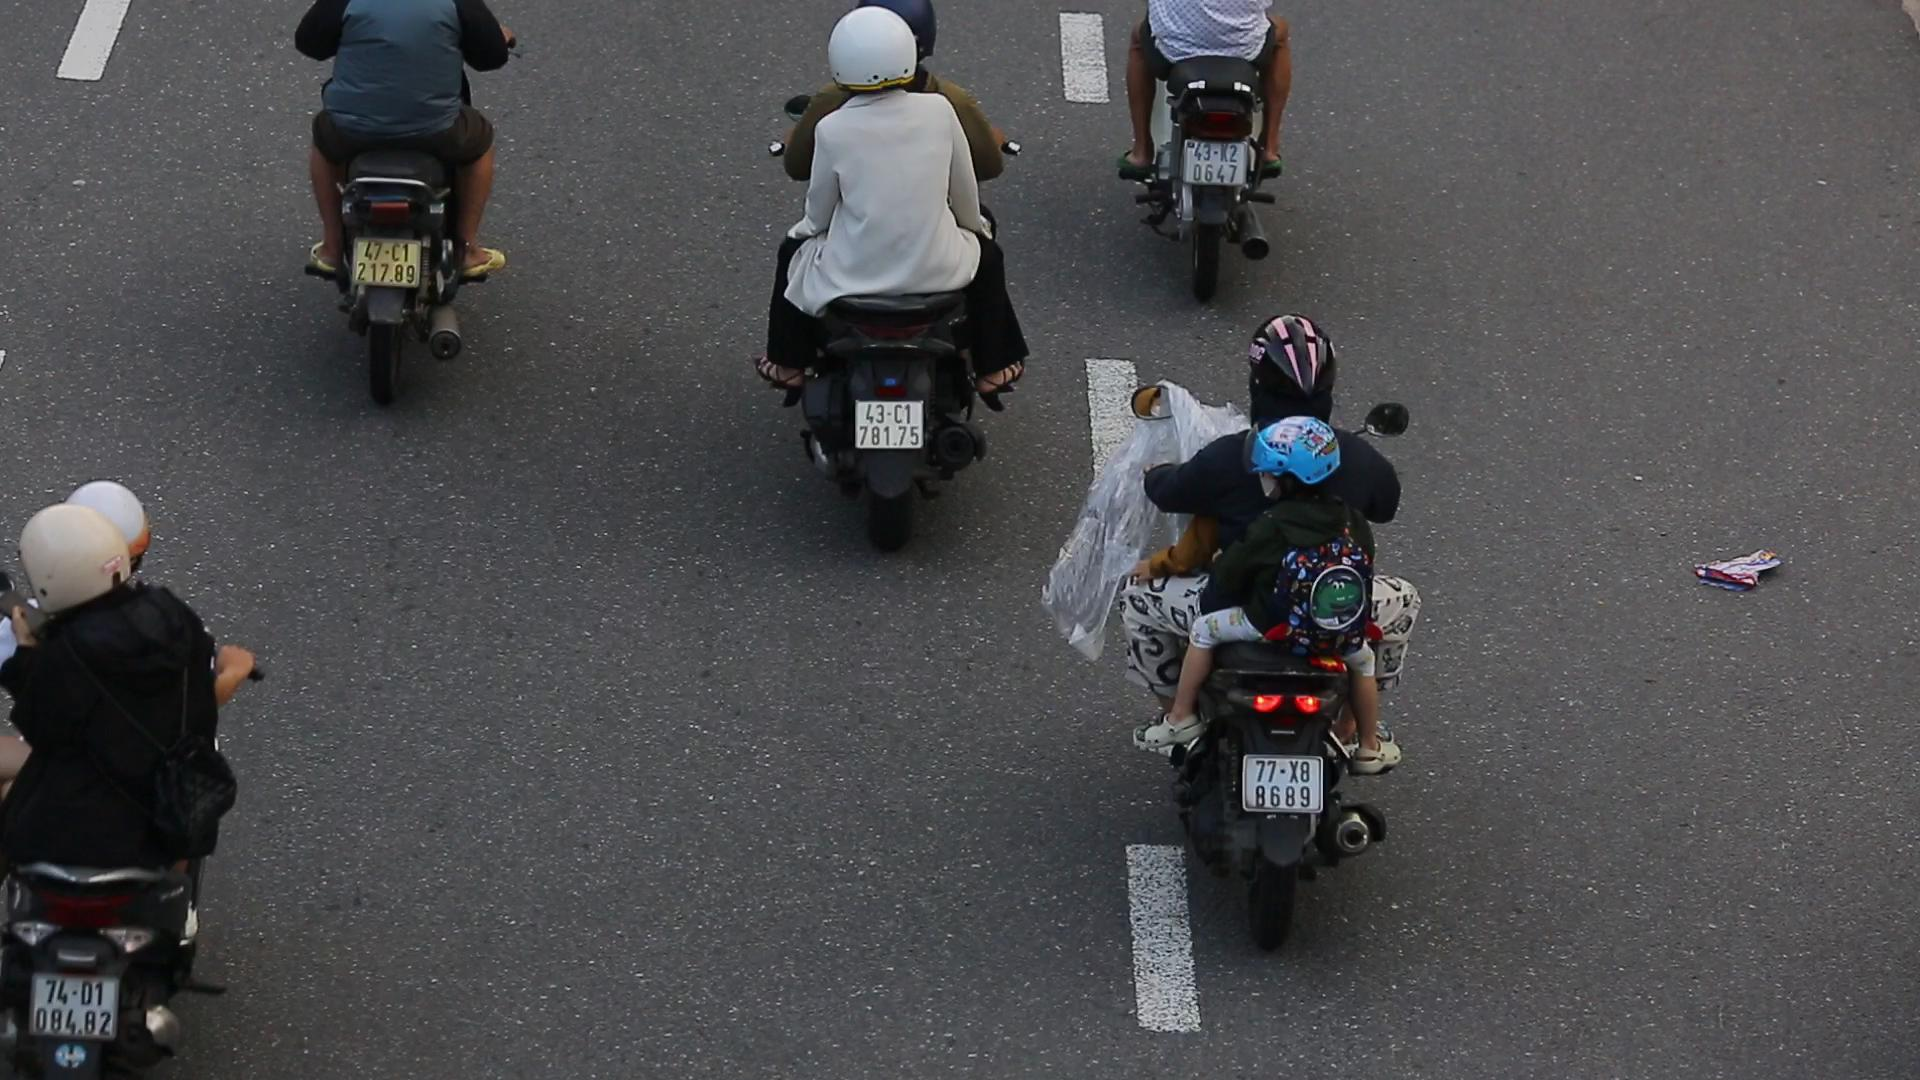motobike: (1092, 307, 1416, 922), (749, 0, 1071, 580), (0, 433, 235, 1080)
